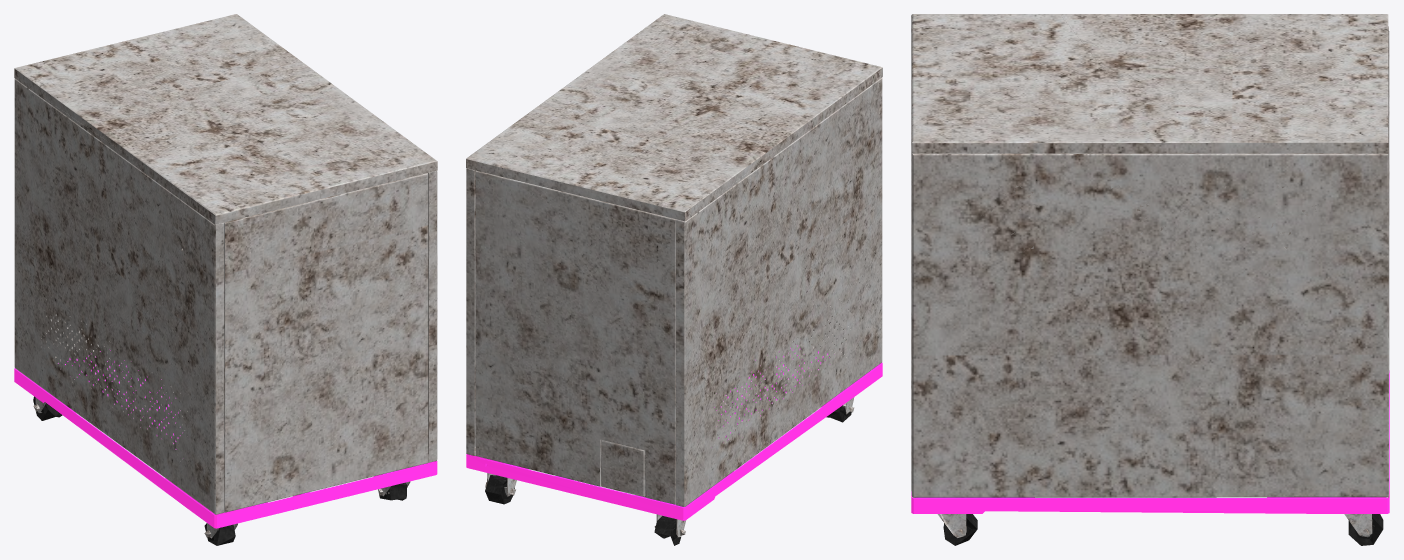
Rendered from craft_r06_roentgen_furnace.glb.
3 views of the same model, side by side, from view 1: azimuth 30°, elevation 25°; view 2: azimuth 150°, elevation 25°; view 3: azimuth 270°, elevation 25° (orthographic). The views are drawn at different scales.
Visible parts, largest first — view 1: craft_r06_roentgen_furnace; view 2: craft_r06_roentgen_furnace; view 3: craft_r06_roentgen_furnace.
Part boxes in pixels (left/top/right/bottom): craft_r06_roentgen_furnace: left=14, top=14, right=437, bottom=545; craft_r06_roentgen_furnace: left=466, top=14, right=882, bottom=545; craft_r06_roentgen_furnace: left=911, top=14, right=1389, bottom=545.
Size of the model in its own units: 0.6201 by 0.929 by 0.9724.
4 materials, 3 textured.
